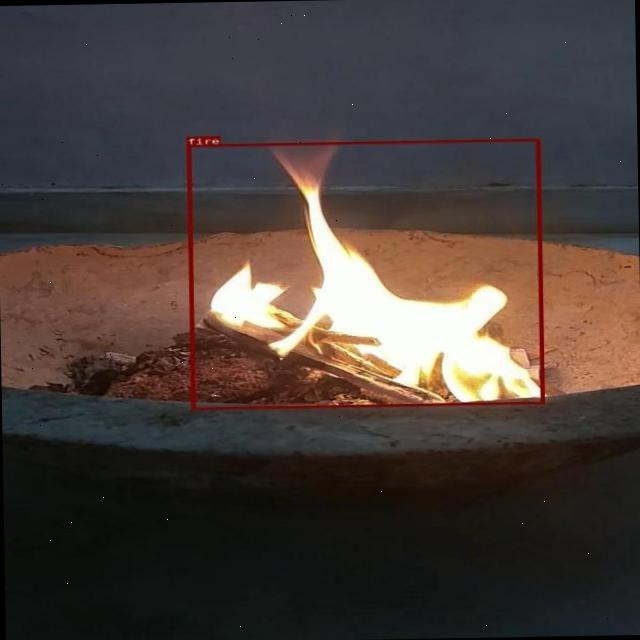fire: (186, 137, 544, 409)
